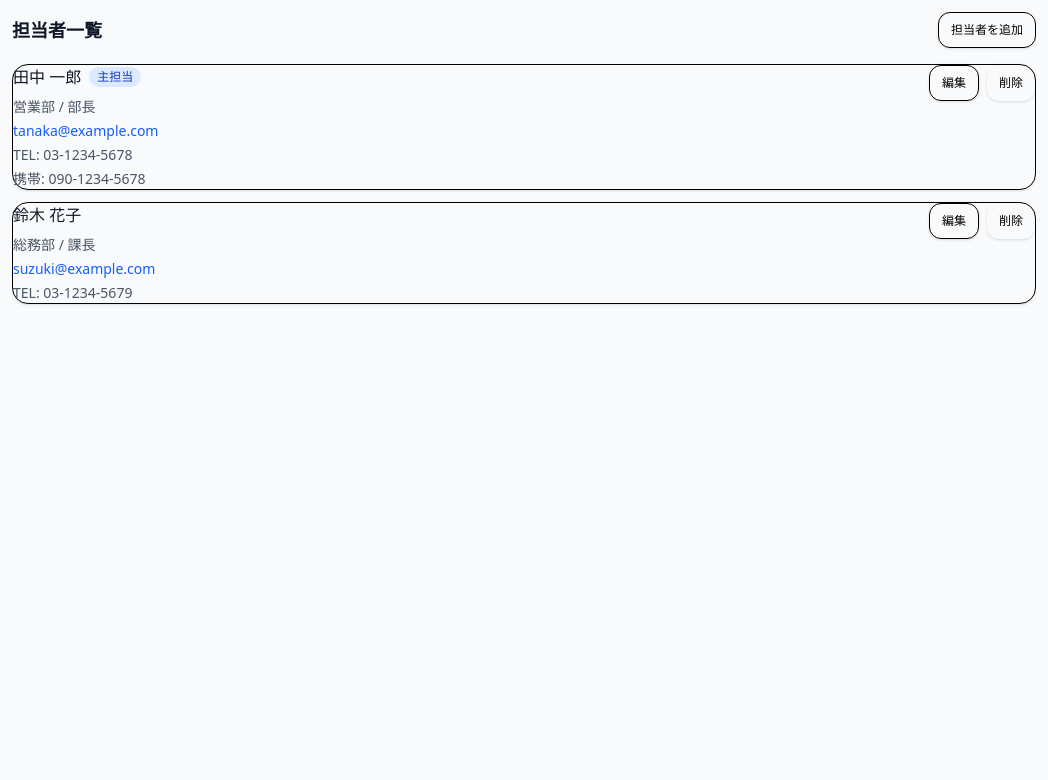
it: CustomerContactList › 担当者追加 › 担当者を追加ボタンをクリックすると、フォームが表示される
What coordinates should you click on to do the following:
click the button "担当者を追加"
I would click on:
 (987, 30)
Its box is [938,12,1036,48].
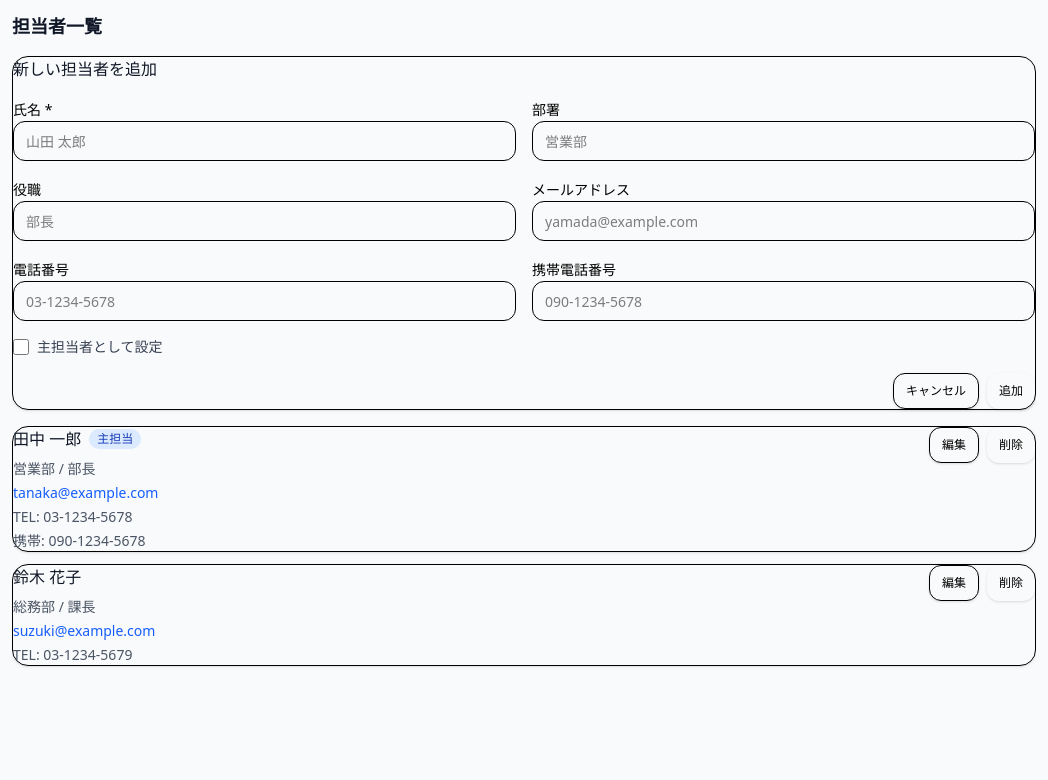
Expected: the heading "新しい担当者を追加" is shown, [13,58,157,80]
Expected: the field labelled "氏名 *" is shown, [13,121,516,161]
